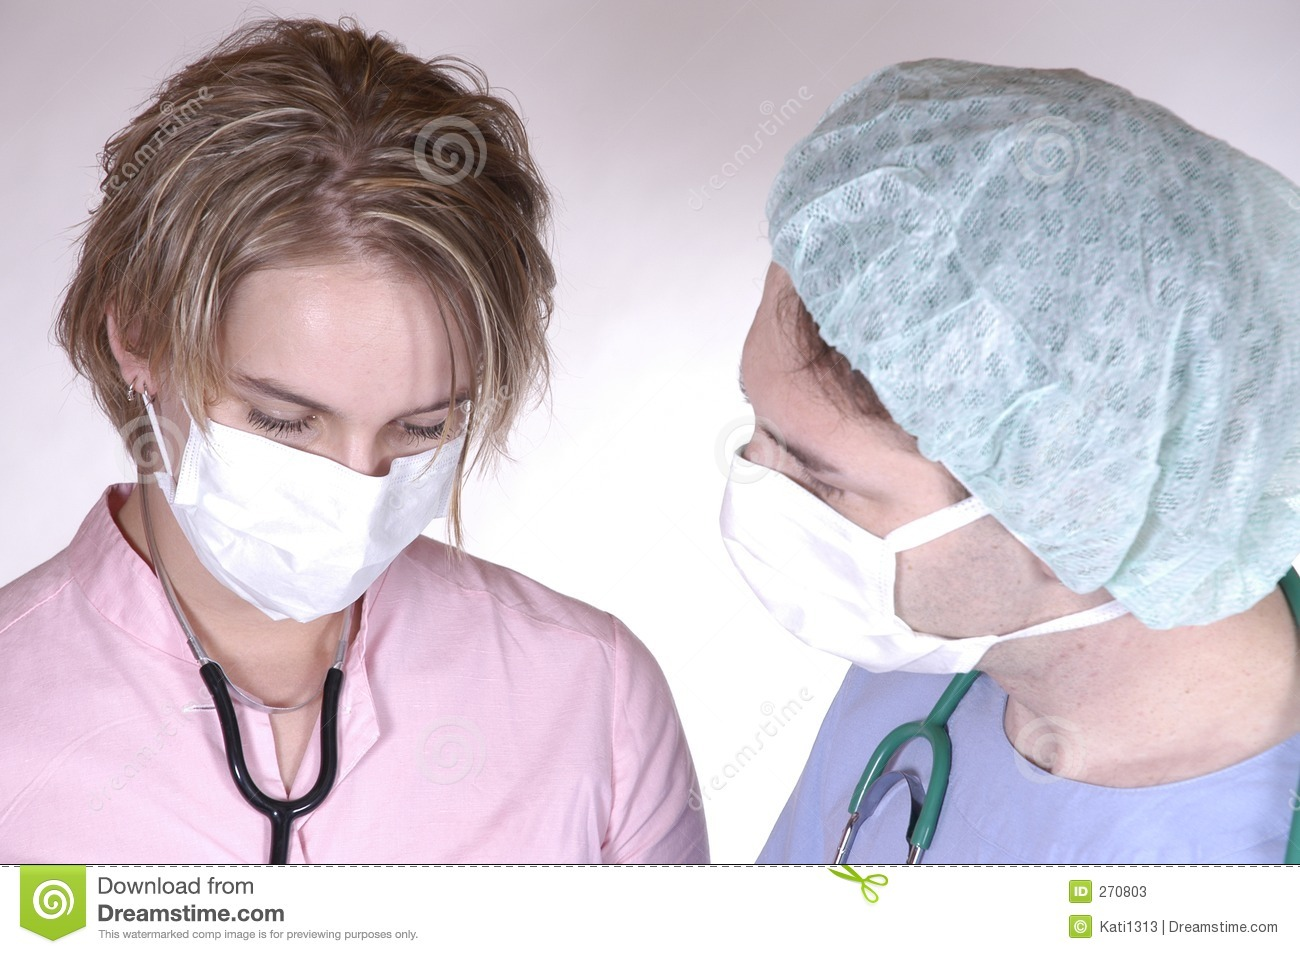mask: (179, 419, 488, 656), (717, 450, 983, 705)
